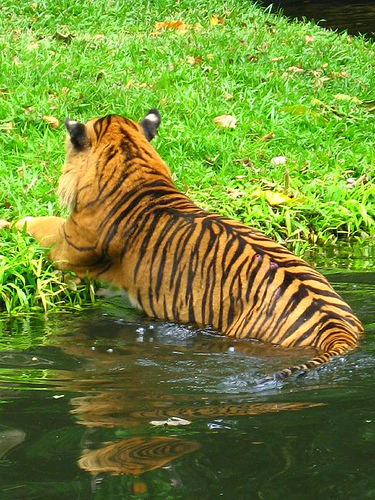Tigre: (40, 101, 367, 392)
